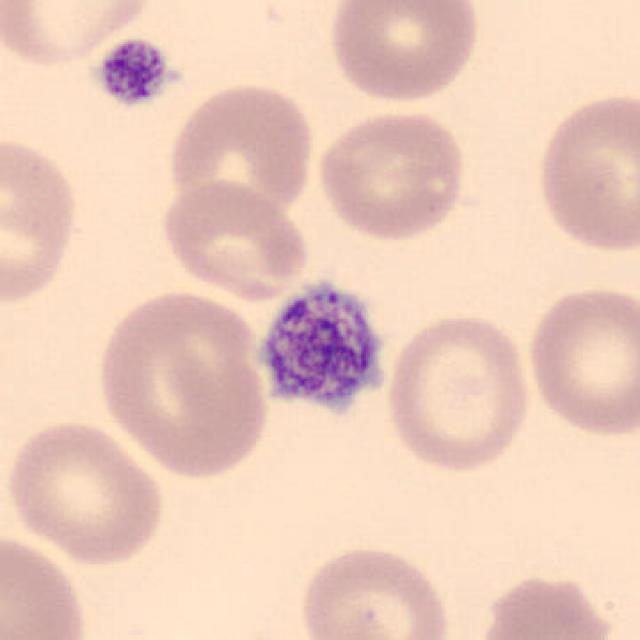Platelets: (249, 275, 393, 425), (92, 36, 174, 110)
RBC: (91, 286, 272, 483), (381, 309, 535, 476), (2, 416, 169, 568), (164, 78, 318, 226), (313, 104, 471, 243), (156, 175, 313, 303), (530, 86, 638, 258), (523, 280, 638, 439), (326, 0, 486, 106), (293, 539, 455, 640), (0, 129, 84, 312), (0, 0, 160, 71), (471, 569, 617, 640), (0, 529, 92, 640)
